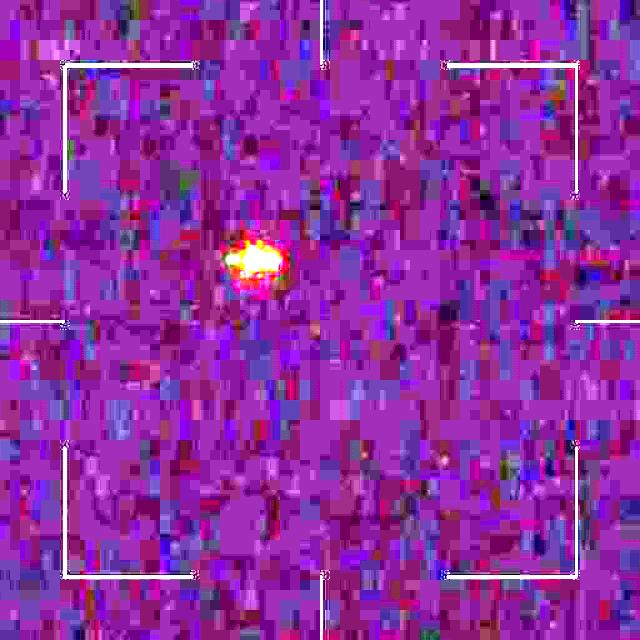bird: (228, 242, 281, 280)
